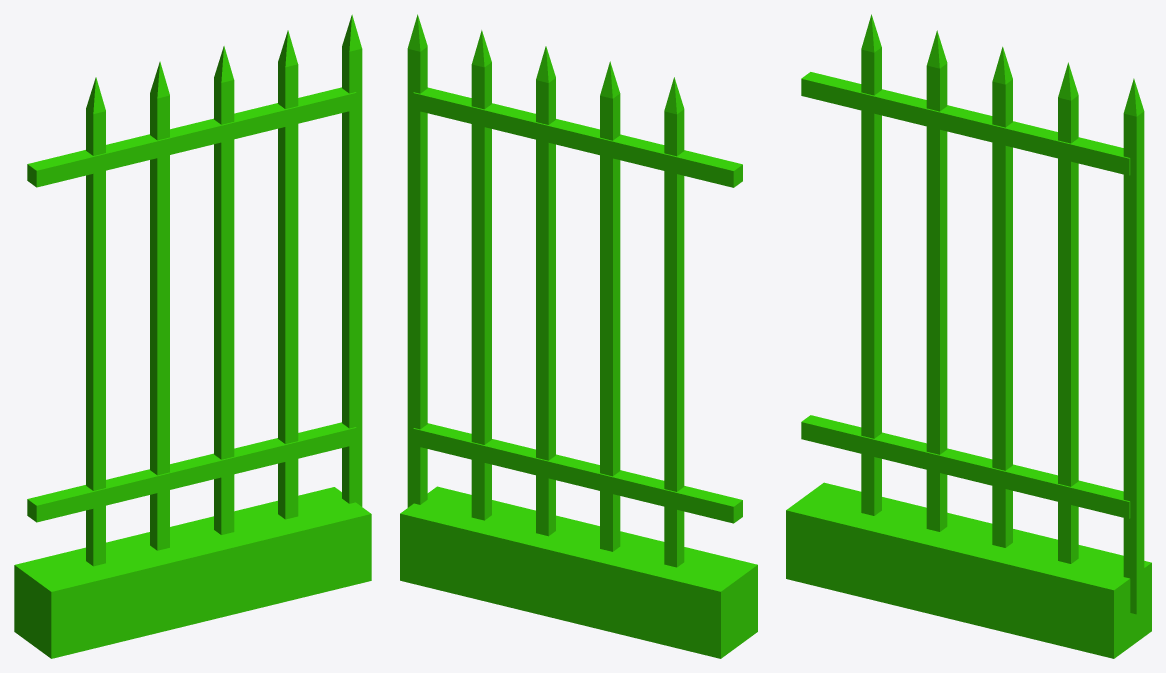
Rendered from fence2_07.fbx.
3 renders of one model, left to right at view 1: azimuth 30°, elevation 25°; view 2: azimuth 150°, elevation 25°; view 3: azimuth 330°, elevation 25°, orthographic. The views are drawn at different scales.
Visible parts, largest first — view 1: fence2_07; view 2: fence2_07; view 3: fence2_07.
Part boxes in pixels (box(x1,y1,x2,y2)): fence2_07: box(14, 14, 371, 658); fence2_07: box(400, 14, 757, 658); fence2_07: box(786, 14, 1151, 658).
Bounding box in the file's own units: 102 × 165 × 20.
